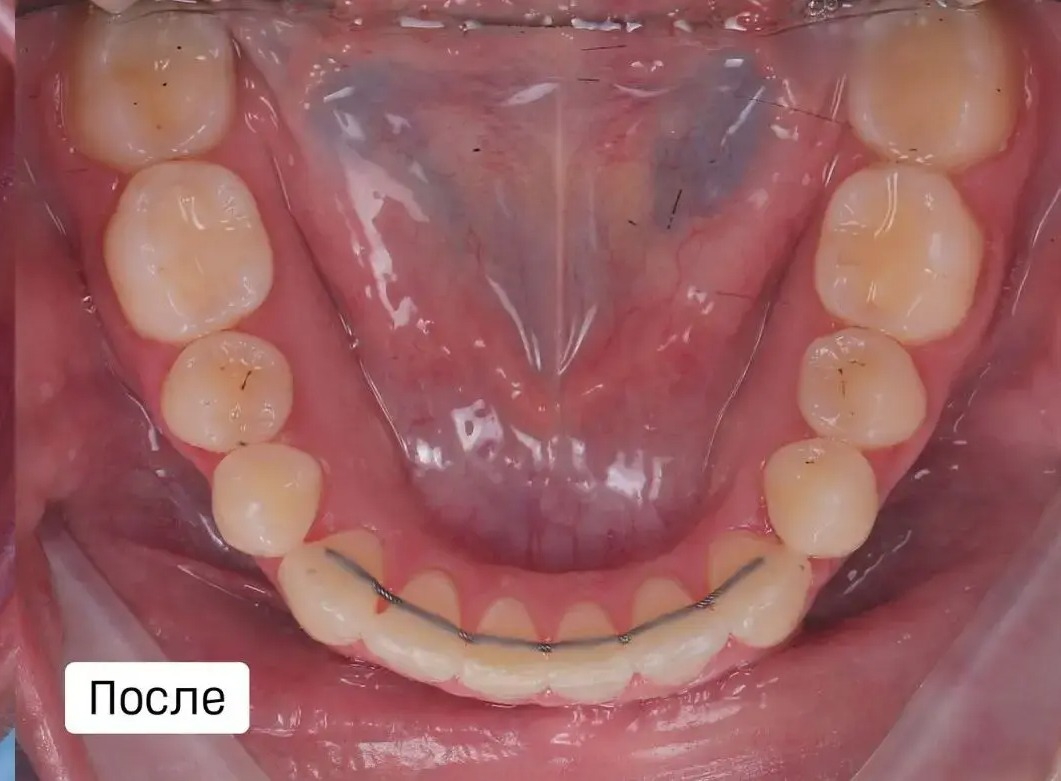LL1BC_healthy: (765, 440, 876, 553)
LL1M_healthy: (815, 165, 978, 335)
LL2BC_decay: (799, 332, 928, 444)
LL2M_healthy: (856, 12, 1010, 160)
LLCI_decay: (549, 602, 631, 701)
LLC_decay: (716, 536, 811, 643)
LLLI_decay: (632, 582, 721, 680)
LR1BC_healthy: (213, 446, 319, 558)
LR1M_healthy: (108, 162, 273, 337)
LR2BC_decay: (163, 335, 290, 446)
LR2M_healthy: (76, 15, 232, 158)
LRCI_decay: (469, 604, 546, 701)
LRC_decay: (279, 535, 382, 644)
LRLI_decay: (377, 577, 464, 679)
